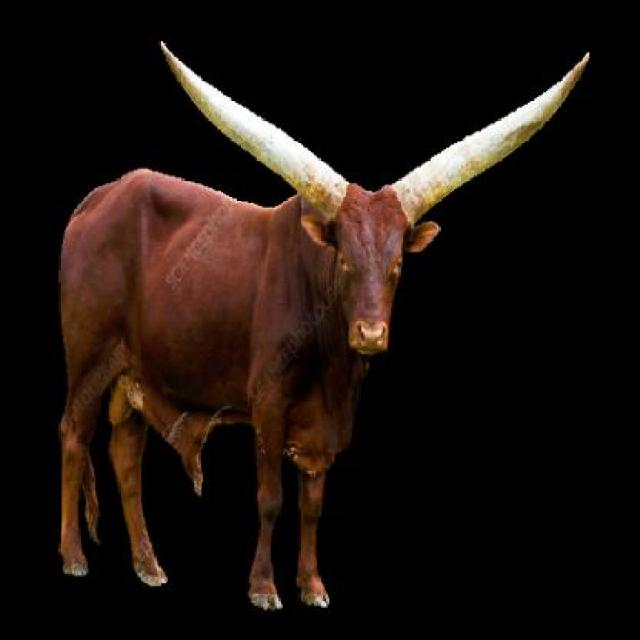Cow: (46, 32, 597, 611)
